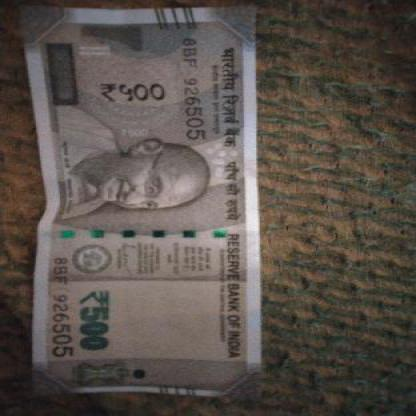New500Front: (19, 7, 260, 394)
